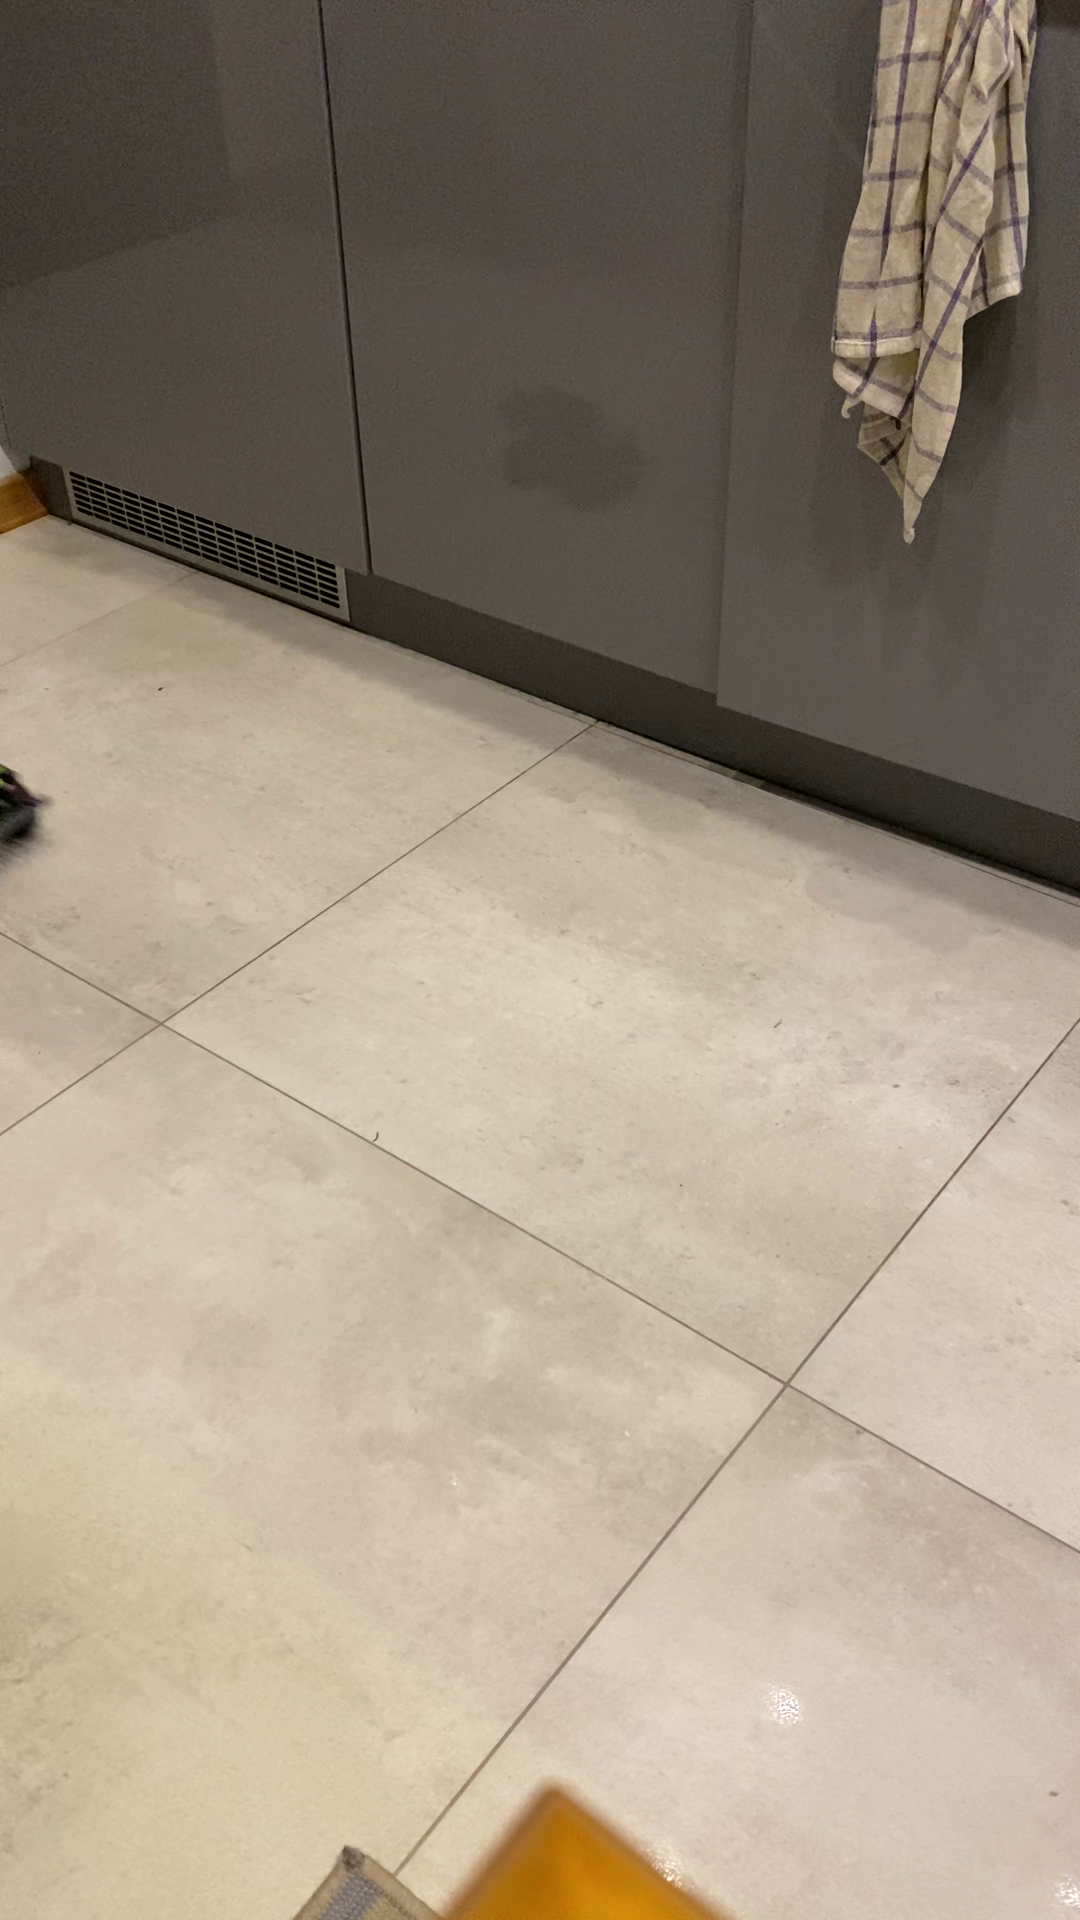car: (1, 765, 45, 870)
